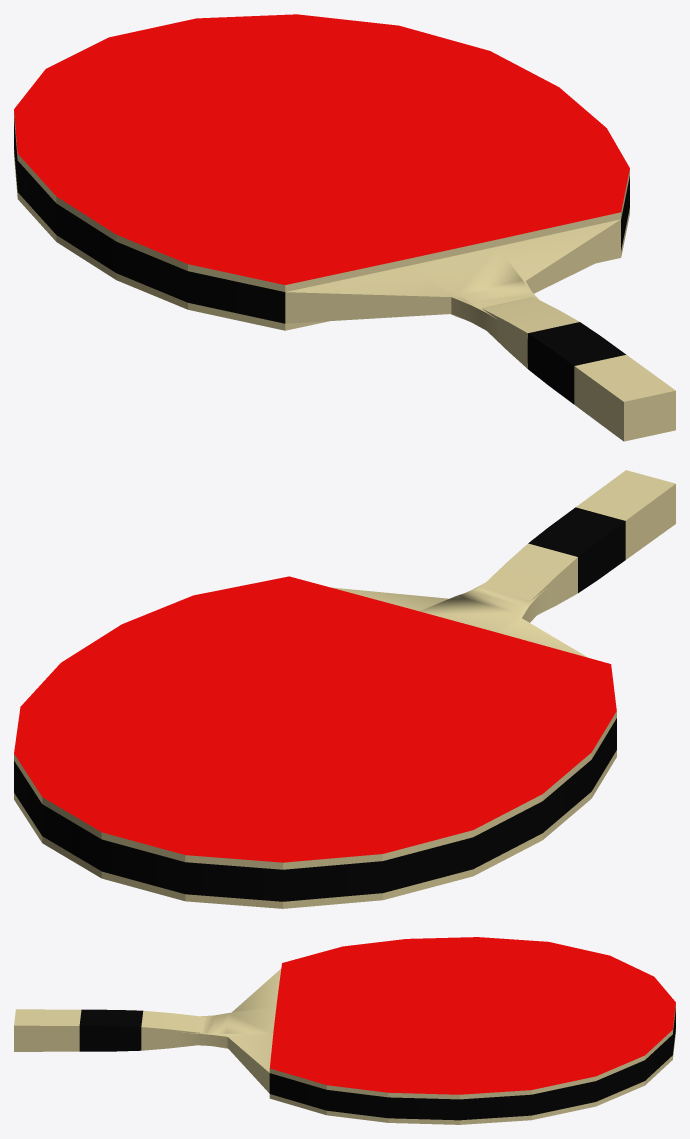
Rendered from paddle_reworked.fbx.
3 views of the same model, one above another, from view 1: azimuth 30°, elevation 25°; view 2: azimuth 150°, elevation 25°; view 3: azimuth 270°, elevation 25° (orthographic). The views are drawn at different scales.
Parts seen in each view (by area): view 1: Paddle; view 2: Paddle; view 3: Paddle.
Part boxes in pixels (<box>): Paddle: <box>14,14,675,441</box>; Paddle: <box>14,470,675,908</box>; Paddle: <box>14,937,675,1124</box>.
Size of the model in its own units: 29.17 by 2.6 by 51.73.
